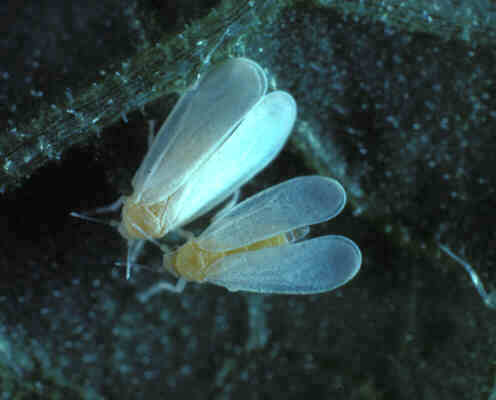whitefly: (71, 54, 298, 281), (153, 176, 364, 296)
